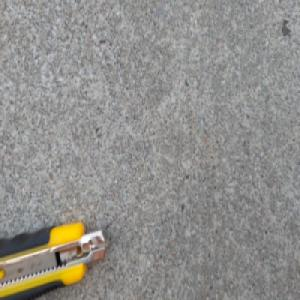Cutter: (0, 218, 109, 300)
